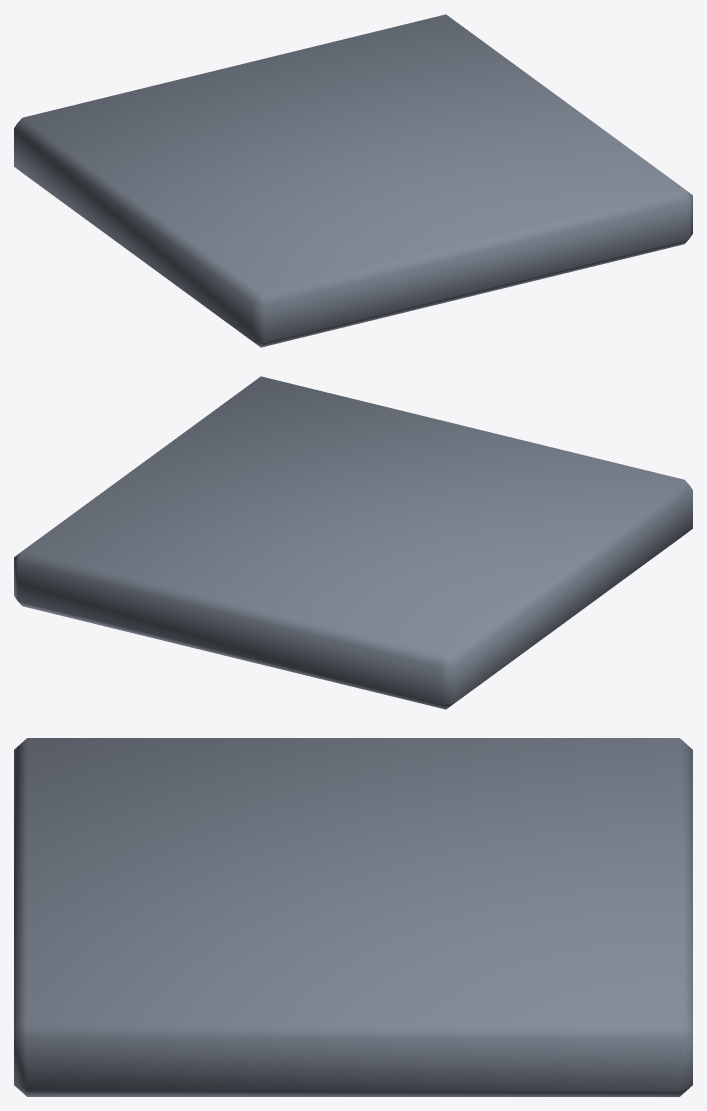
Rendered from Sidewalk_Panel_1.fbx.
3 views of the same model, one above another, from view 1: azimuth 30°, elevation 25°; view 2: azimuth 150°, elevation 25°; view 3: azimuth 270°, elevation 25° (orthographic). The views are drawn at different scales.
Visible parts, largest first — view 1: Cube.228; view 2: Cube.228; view 3: Cube.228.
Boxes of the visible parts, x1,y1,x2,y2 form: Cube.228: [14, 14, 692, 347]; Cube.228: [14, 376, 692, 709]; Cube.228: [14, 738, 692, 1096].
Size of the model in its own units: 323 by 38.83 by 315.
